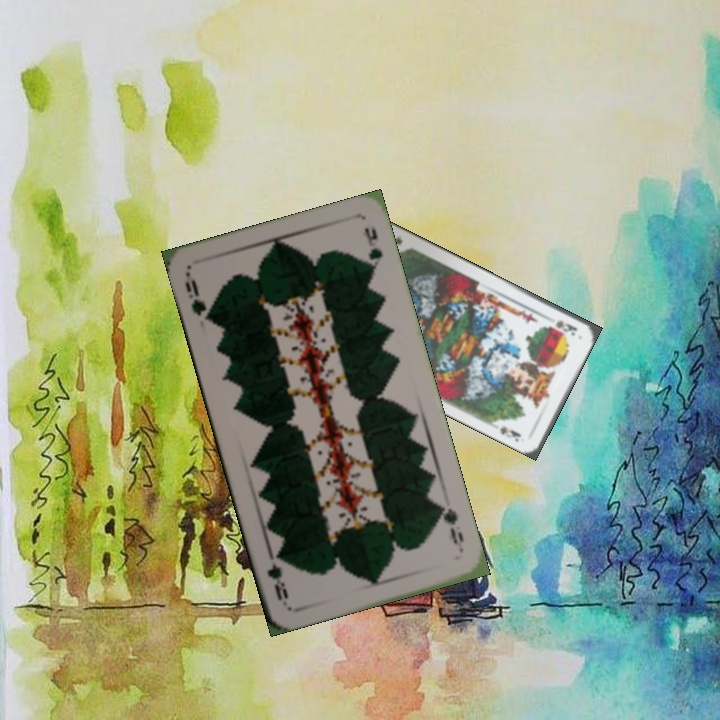G9: (181, 269, 215, 325), (434, 500, 467, 555)
SK: (551, 316, 580, 338)
